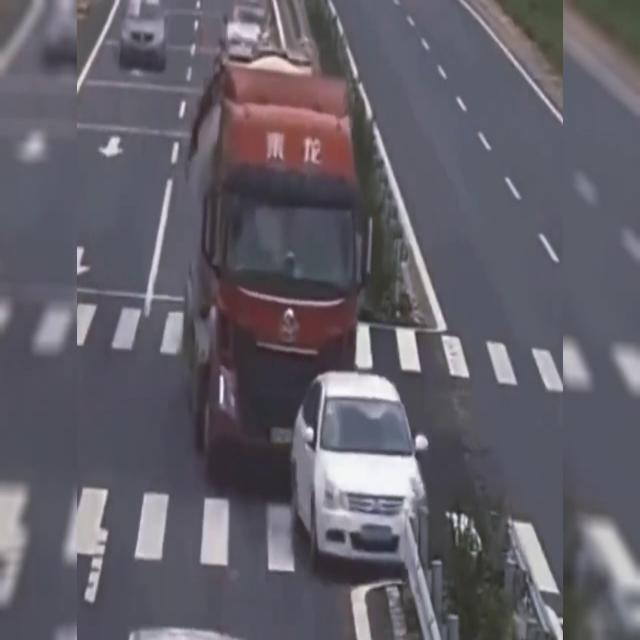accident: (196, 55, 430, 569)
